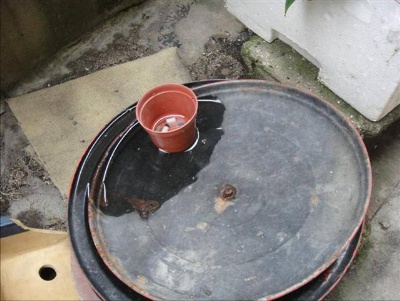bowl: (134, 83, 200, 153)
plate: (88, 78, 373, 301)
